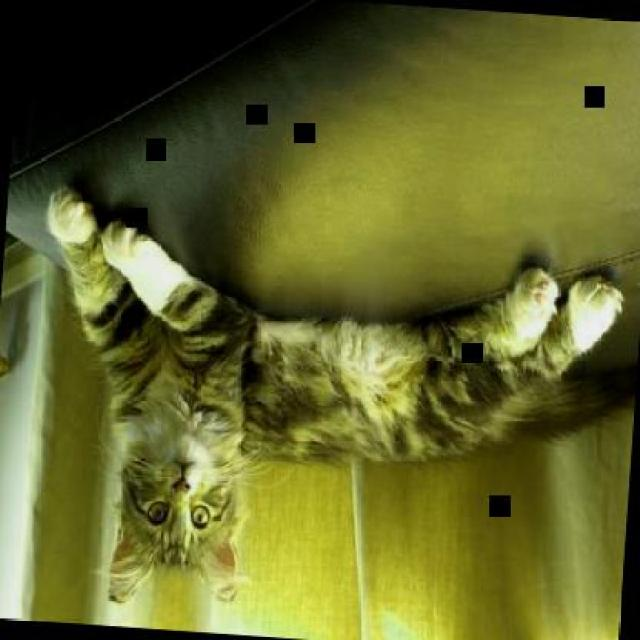cat: (21, 190, 630, 639)
